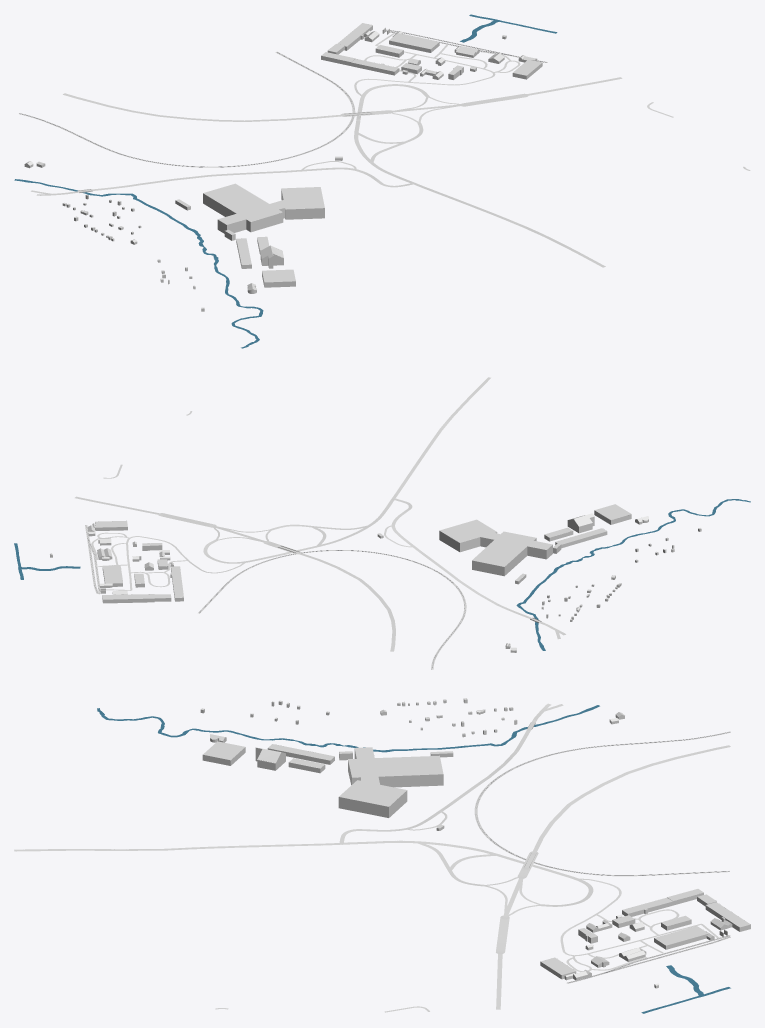
File: objekty.glb
3 renders of one model, top to bottom at view 1: azimuth 30°, elevation 25°; view 2: azimuth 150°, elevation 25°; view 3: azimuth 270°, elevation 25°, orthographic. The views are drawn at different scales.
Visible parts, largest first — view 1: Budovy_04_08, Cesty_04_08, Voda_04_08, Okna_Dvere_04_08; view 2: Budovy_04_08, Cesty_04_08, Voda_04_08, Okna_Dvere_04_08; view 3: Budovy_04_08, Cesty_04_08, Voda_04_08, Okna_Dvere_04_08, Kolajnice_04_08.
Boxes of the visible parts, box(x1,y1,x2,y2) form: Budovy_04_08: box(24, 23, 542, 311); Cesty_04_08: box(19, 29, 750, 267); Voda_04_08: box(14, 14, 557, 348); Okna_Dvere_04_08: box(25, 26, 542, 310); Budovy_04_08: box(50, 504, 701, 652); Cesty_04_08: box(75, 377, 565, 669); Voda_04_08: box(14, 499, 750, 650); Okna_Dvere_04_08: box(51, 512, 700, 651); Budovy_04_08: box(200, 698, 750, 988); Cesty_04_08: box(14, 703, 730, 1012); Voda_04_08: box(97, 705, 730, 1013); Okna_Dvere_04_08: box(201, 700, 750, 986); Kolajnice_04_08: box(477, 732, 729, 982).
Size of the model in its own units: 1007 by 54.3 by 1032.
